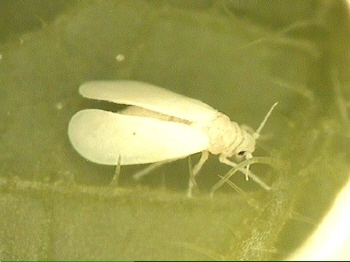whitefly: (64, 78, 281, 199)
